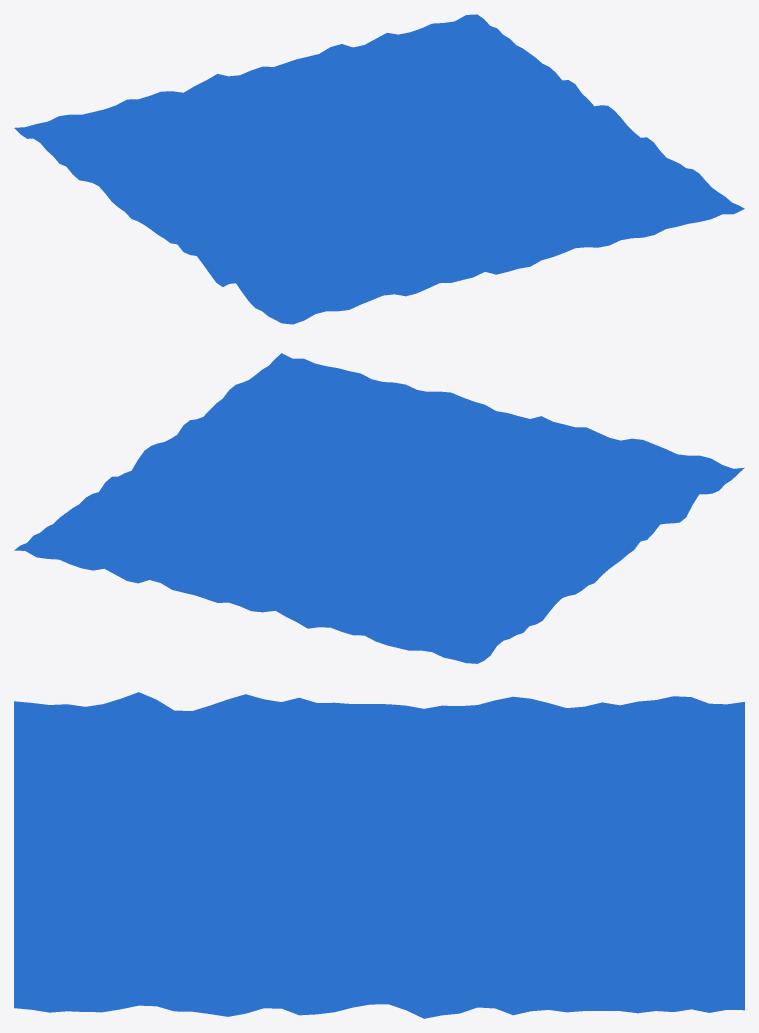
Rendered from ocean.glb.
The picture shows the model from 3 angles, top to bottom: view 1: azimuth 30°, elevation 25°; view 2: azimuth 150°, elevation 25°; view 3: azimuth 270°, elevation 25°; orthographic projection. The views are drawn at different scales.
Parts seen in each view (by area): view 1: LowPolyOcean; view 2: LowPolyOcean; view 3: LowPolyOcean.
Boxes of the visible parts, x1,y1,x2,y2 form: LowPolyOcean: [14, 14, 744, 324]; LowPolyOcean: [14, 353, 744, 663]; LowPolyOcean: [14, 692, 744, 1018].
Size of the model in its own units: 30 by 0.9036 by 30.
